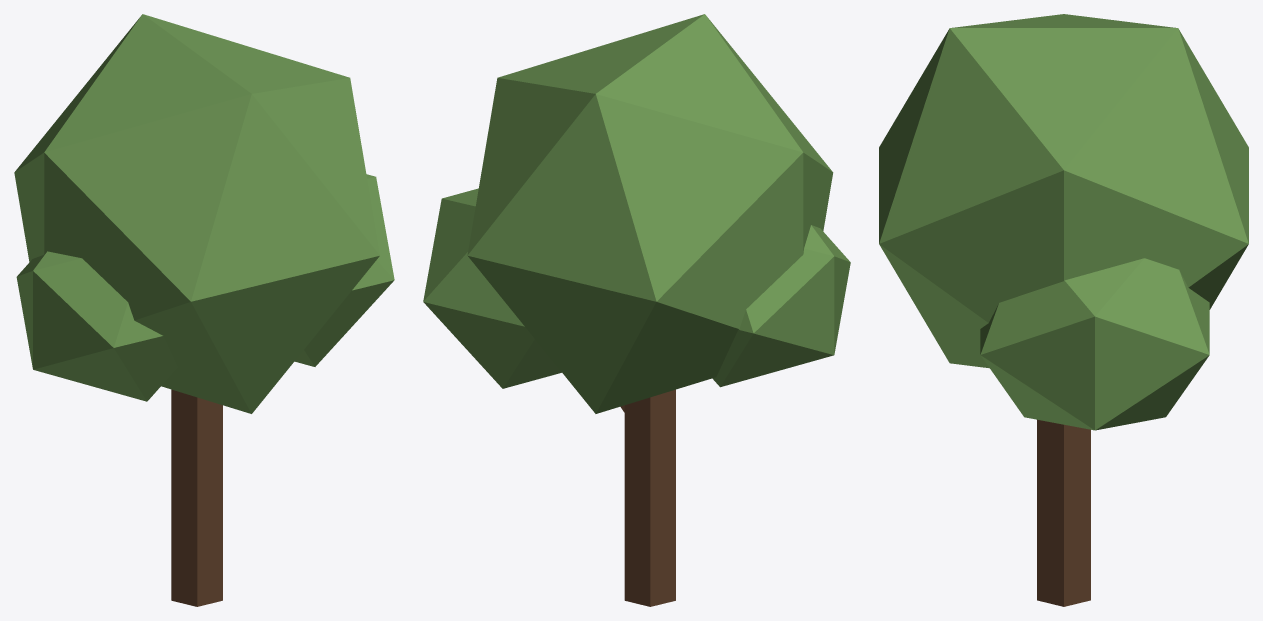
Rendered from Agac_yuvarlak_3_Hafif.fbx.
The picture shows the model from 3 angles, left to right: view 1: azimuth 30°, elevation 25°; view 2: azimuth 150°, elevation 25°; view 3: azimuth 270°, elevation 25°; orthographic projection. The views are drawn at different scales.
Parts seen in each view (by area): view 1: Agac_yuvarlak_3_Hafif; view 2: Agac_yuvarlak_3_Hafif; view 3: Agac_yuvarlak_3_Hafif.
Boxes of the visible parts, <box> form: Agac_yuvarlak_3_Hafif: <box>14,14,394,606</box>; Agac_yuvarlak_3_Hafif: <box>423,14,850,606</box>; Agac_yuvarlak_3_Hafif: <box>879,14,1248,606</box>.
Bounding box in the file's own units: 2.14 × 3.01 × 1.78.
